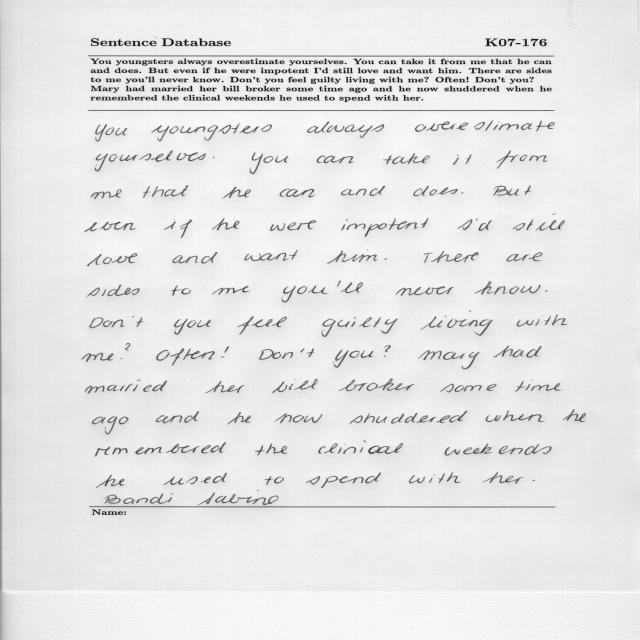word: (95, 151, 206, 172), (151, 124, 272, 141), (95, 442, 226, 456), (421, 311, 493, 336), (415, 120, 555, 132), (341, 218, 429, 237), (350, 410, 467, 424), (321, 317, 398, 337), (307, 121, 384, 138), (445, 444, 552, 456), (418, 351, 480, 370), (306, 473, 381, 488), (319, 441, 404, 454), (85, 380, 167, 393), (156, 349, 215, 366), (238, 316, 287, 335), (475, 281, 541, 295), (496, 151, 547, 169), (339, 379, 415, 391), (513, 214, 565, 231), (250, 153, 288, 174), (282, 286, 328, 303), (163, 473, 227, 485), (334, 350, 374, 368), (87, 284, 140, 297), (93, 416, 129, 435), (517, 314, 568, 327), (424, 251, 479, 263), (89, 316, 144, 328), (259, 348, 314, 360), (88, 253, 138, 266), (327, 251, 377, 264), (486, 411, 545, 422), (272, 379, 317, 393), (244, 250, 298, 261), (174, 319, 211, 335), (493, 346, 542, 358), (143, 185, 188, 198), (396, 286, 454, 296), (409, 473, 461, 484), (96, 124, 127, 142), (515, 380, 561, 392), (173, 252, 218, 264), (165, 220, 193, 239), (383, 153, 430, 164), (156, 411, 199, 423), (85, 222, 136, 232), (270, 220, 316, 231), (441, 384, 497, 393), (275, 413, 322, 423), (206, 381, 245, 393), (413, 186, 458, 196), (341, 186, 385, 196), (483, 473, 523, 484), (255, 443, 288, 456), (494, 185, 531, 196), (97, 475, 125, 488), (507, 252, 543, 262), (222, 187, 251, 199), (212, 218, 240, 230), (280, 189, 315, 198), (337, 281, 363, 293), (91, 189, 122, 199), (212, 286, 250, 294), (563, 409, 586, 422), (317, 156, 354, 164), (82, 353, 114, 362), (228, 412, 251, 424), (171, 285, 191, 296), (453, 154, 472, 165), (476, 218, 491, 231), (265, 476, 284, 485), (121, 343, 131, 359), (458, 219, 472, 230), (221, 346, 229, 358), (384, 345, 391, 357), (385, 258, 387, 260), (545, 290, 548, 291), (213, 157, 215, 158), (533, 480, 535, 481), (462, 192, 463, 193)
